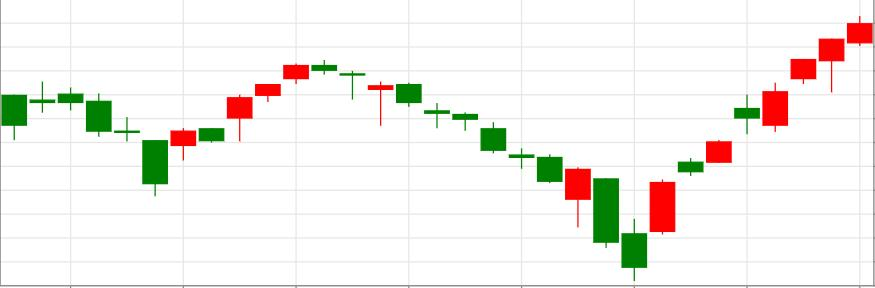hanging_man_fall: (678, 39, 845, 176)
